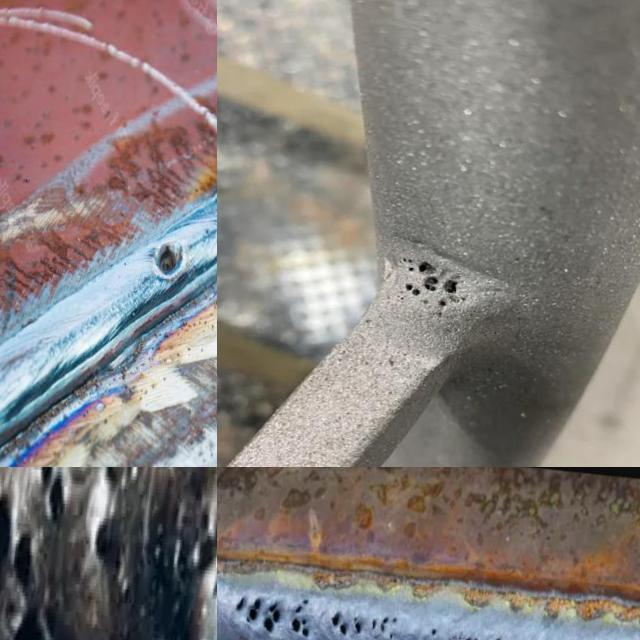defect: (171, 494, 217, 609), (0, 488, 42, 591), (36, 467, 70, 528), (151, 239, 185, 281), (90, 512, 113, 569), (288, 595, 311, 640), (326, 611, 363, 638), (395, 255, 435, 274), (370, 614, 399, 640), (263, 601, 283, 638), (245, 595, 261, 626), (440, 279, 462, 296), (419, 276, 440, 292), (401, 282, 423, 297), (428, 626, 444, 640), (234, 595, 245, 613), (395, 293, 405, 302), (463, 634, 478, 640), (437, 299, 448, 307), (434, 311, 445, 319), (418, 297, 429, 304), (492, 636, 502, 640)
